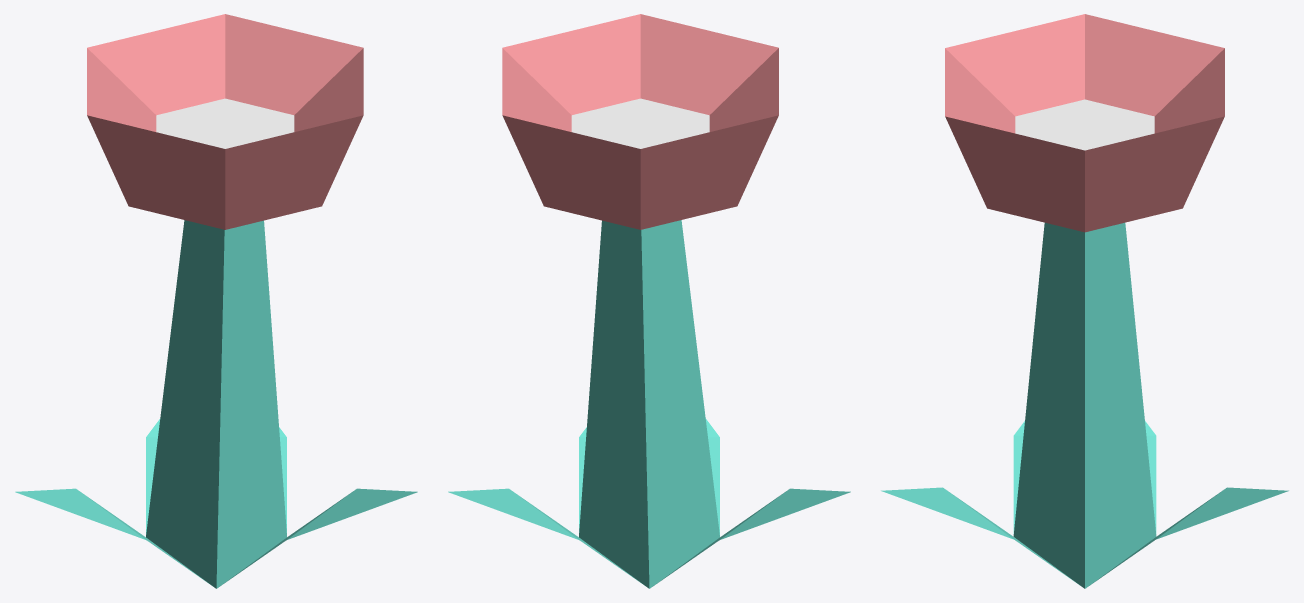
The model's file is kenney-nature__flower_redC.glb.
3 views of the same model, side by side, from view 1: azimuth 30°, elevation 25°; view 2: azimuth 150°, elevation 25°; view 3: azimuth 270°, elevation 25° (orthographic).
Parts seen in each view (by area): view 1: flower_redC; view 2: flower_redC; view 3: flower_redC.
Part boxes in pixels (x1,y1,x2,y2): flower_redC: (15,14,417,588); flower_redC: (448,14,850,588); flower_redC: (881,14,1288,588).
Bounding box in the file's own units: 0.1806 × 0.2325 × 0.1811.
